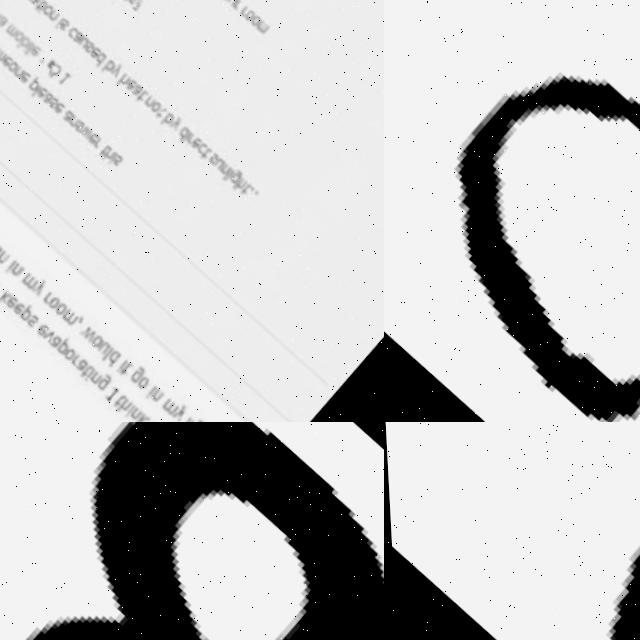1: (53, 66, 70, 84)
8: (0, 422, 384, 640)
L: (463, 422, 640, 640)
S: (384, 0, 640, 422)
